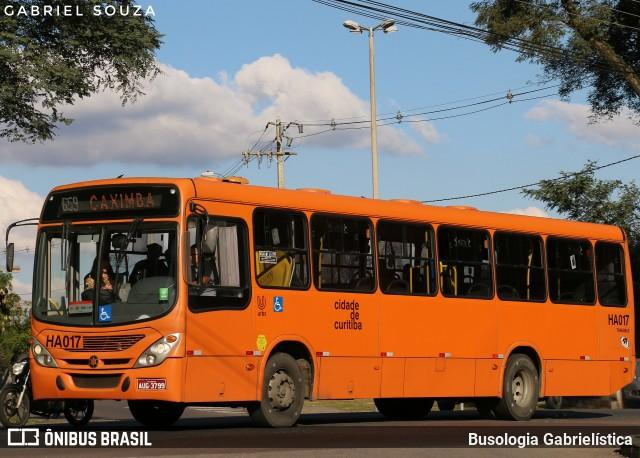CAXIMBA: (84, 188, 159, 213)
